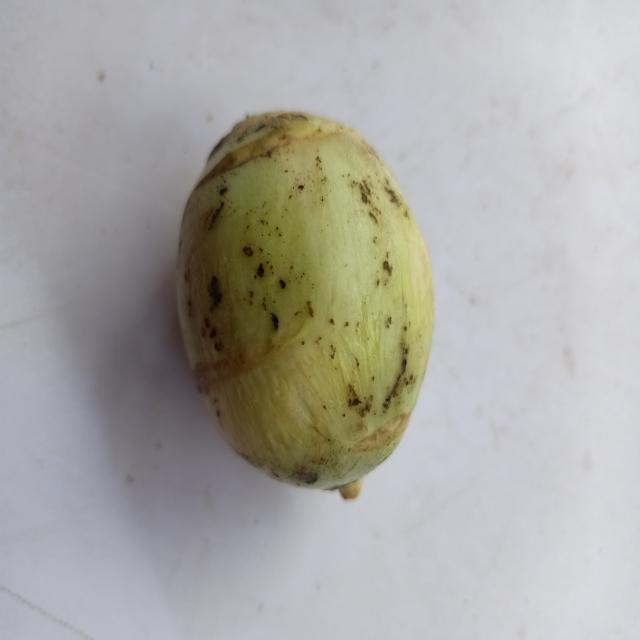Turnip: (148, 84, 438, 534)
